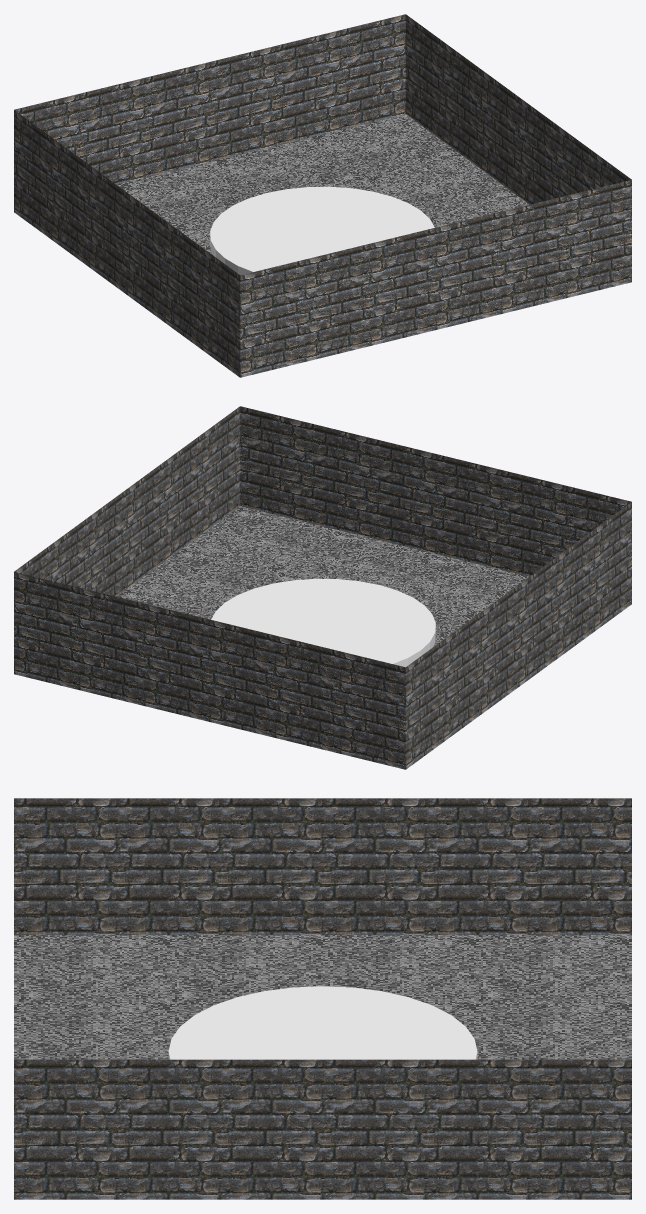
The model's file is testarea.glb.
The picture shows the model from 3 angles, top to bottom: view 1: azimuth 30°, elevation 25°; view 2: azimuth 150°, elevation 25°; view 3: azimuth 270°, elevation 25°; orthographic projection. The views are drawn at different scales.
Visible parts, largest first — view 1: Plane.002, Plane.003, Plane.004, Plane, Plane.001, Cylinder; view 2: Plane.003, Plane.002, Plane.004, Plane, Plane.001, Cylinder; view 3: Plane.001, Plane.004, Plane, Cylinder.
Boxes of the visible parts, left/top/right/bottom form: Plane.002: left=240, top=180, right=631, bottom=377; Plane.003: left=14, top=14, right=405, bottom=184; Plane.004: left=14, top=110, right=240, bottom=377; Plane: left=117, top=114, right=528, bottom=255; Plane.001: left=405, top=14, right=631, bottom=204; Cylinder: left=210, top=186, right=434, bottom=275; Plane.003: left=14, top=572, right=405, bottom=769; Plane.002: left=240, top=406, right=631, bottom=576; Plane.004: left=405, top=502, right=631, bottom=769; Plane: left=117, top=506, right=528, bottom=647; Plane.001: left=14, top=406, right=240, bottom=596; Cylinder: left=211, top=578, right=435, bottom=667; Plane.001: left=14, top=1059, right=631, bottom=1199; Plane.004: left=14, top=798, right=631, bottom=934; Plane: left=14, top=935, right=631, bottom=1059; Cylinder: left=168, top=986, right=477, bottom=1059.
Size of the model in its own units: 16 by 4.5 by 16.
6 materials, 6 textured.
